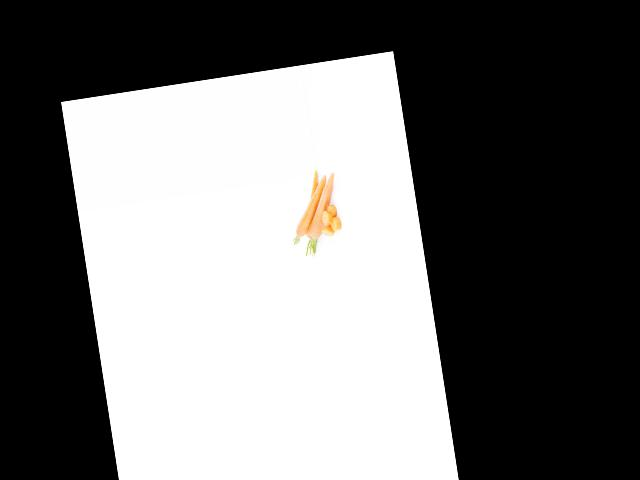carrot: (299, 171, 344, 245)
